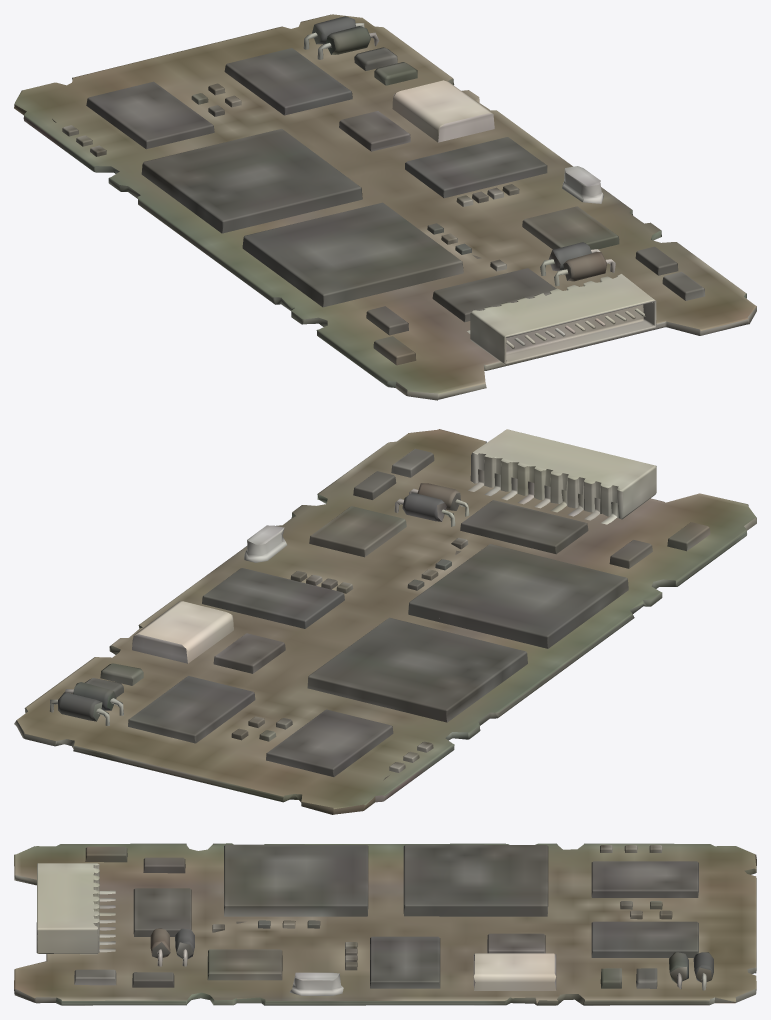
File: SM_ComputerCards_A01_N1.glb
3 views of the same model, one above another, from view 1: azimuth 30°, elevation 25°; view 2: azimuth 150°, elevation 25°; view 3: azimuth 270°, elevation 25° (orthographic). The views are drawn at different scales.
Visible parts, largest first — view 1: SM_ComputerCards_A01_N1; view 2: SM_ComputerCards_A01_N1; view 3: SM_ComputerCards_A01_N1.
Boxes of the visible parts, x1,y1,x2,y2 form: SM_ComputerCards_A01_N1: (14,14,756,400); SM_ComputerCards_A01_N1: (14,429,756,814); SM_ComputerCards_A01_N1: (14,843,756,1005).
Bounding box in the file's own units: 0.09 × 0.00879 × 0.1802.
1 material, 1 textured.
